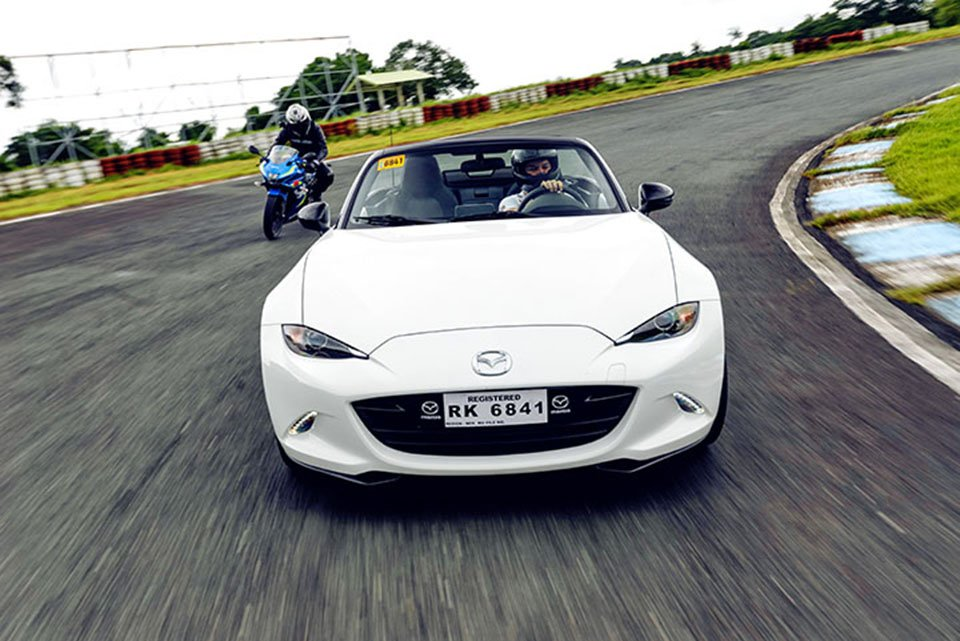car: (250, 135, 730, 493)
motorcycle: (253, 144, 323, 234)
